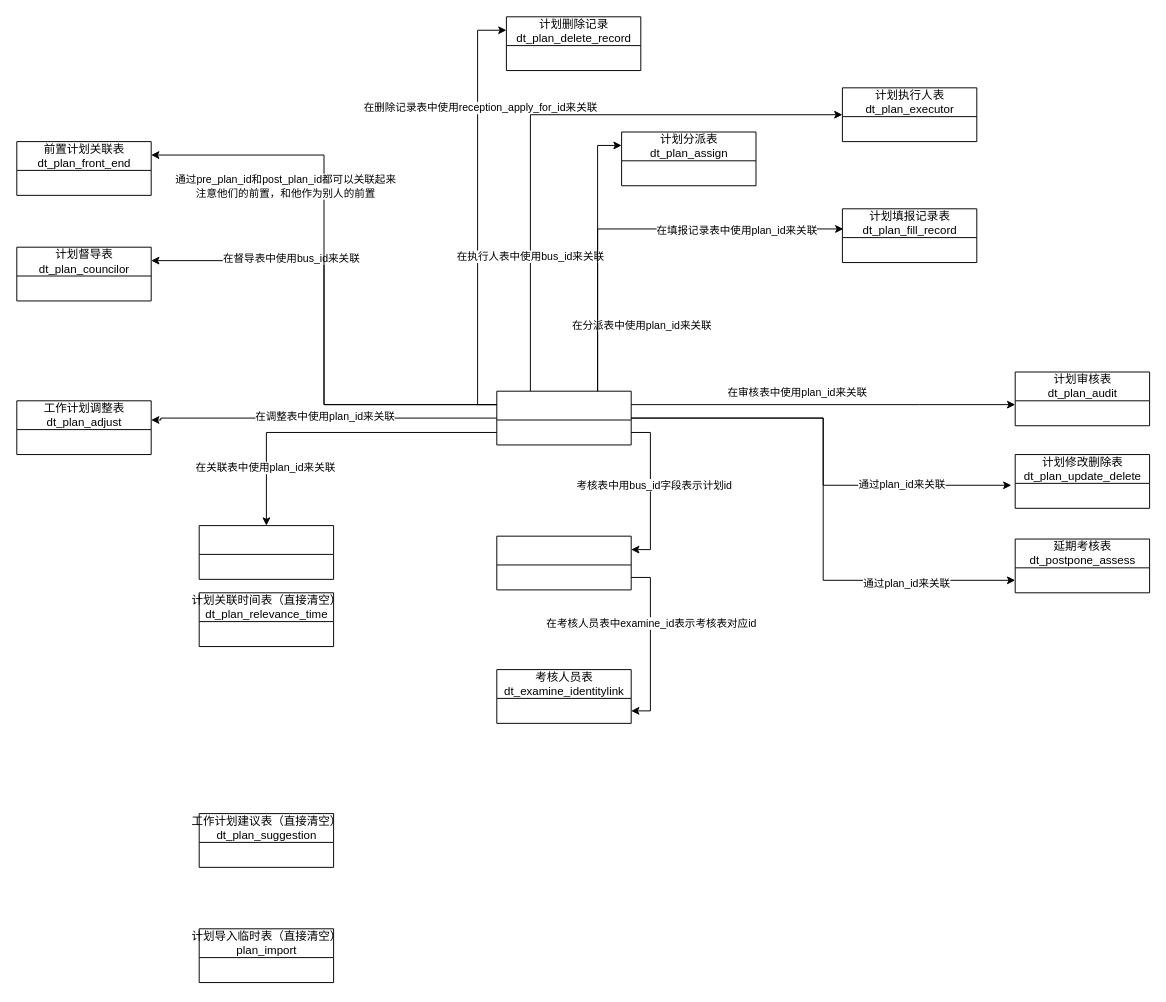
This 1166x1002 diagram has some shape labels left out. Each missing label, with the centre of its shape:
工作计划表 dt_plan: (x=563, y=417)
考核表 dt_examine: (x=563, y=562)
计划关联表 dt_plan_relevance: (x=266, y=552)
